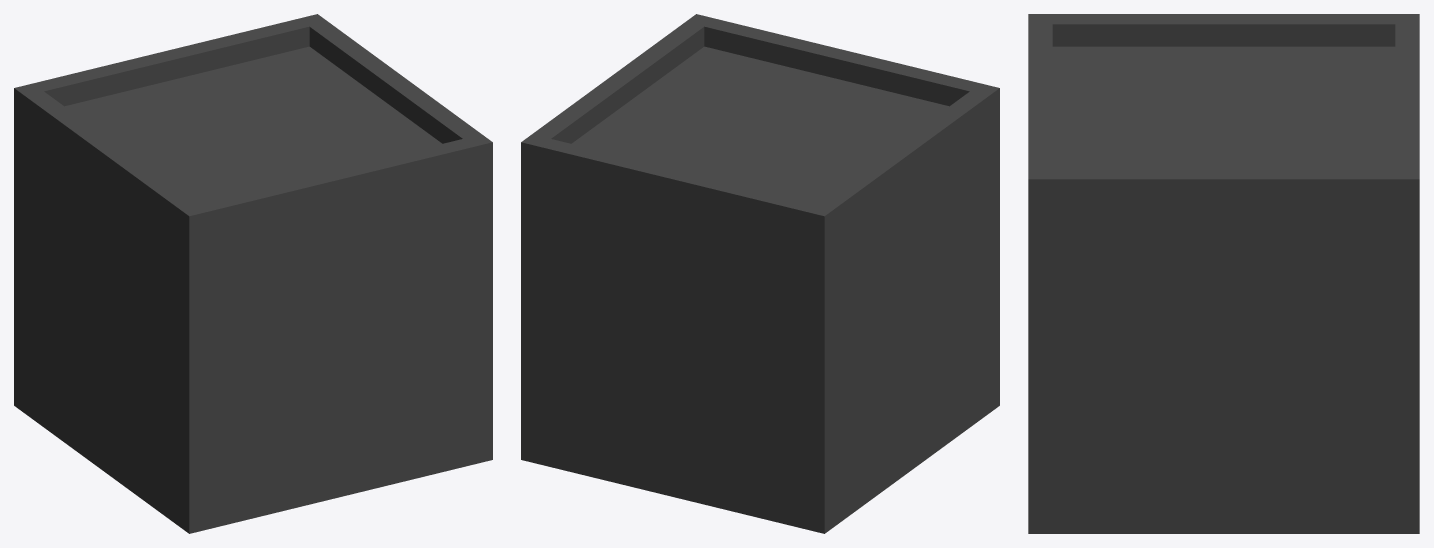
File: Moyou10.obj
3 renders of one model, left to right at view 1: azimuth 30°, elevation 25°; view 2: azimuth 150°, elevation 25°; view 3: azimuth 270°, elevation 25°, orthographic. The views are drawn at different scales.
Visible parts, largest first — view 1: Moyou10; view 2: Moyou10; view 3: Moyou10.
Boxes of the visible parts, x1=… form: Moyou10: x1=14, y1=14, x2=492, y2=533; Moyou10: x1=521, y1=14, x2=999, y2=533; Moyou10: x1=1028, y1=14, x2=1419, y2=533.
Bounding box in the file's own units: 16 × 16 × 16.
1 material, 1 textured.
